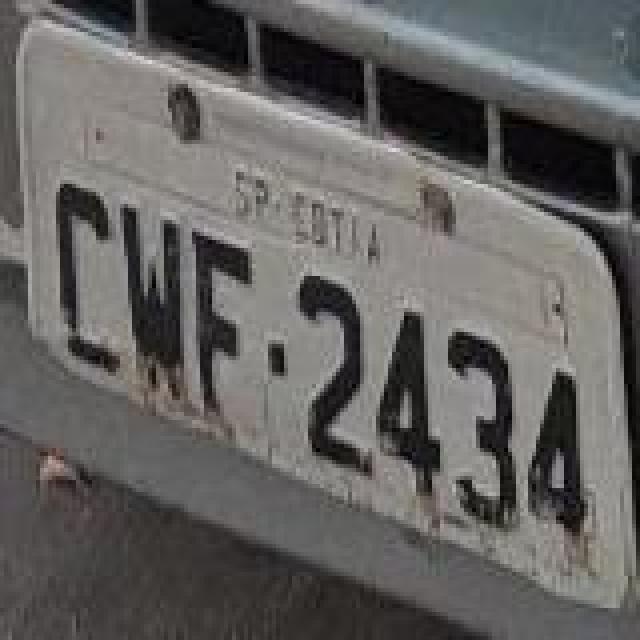2: (298, 272, 374, 480)
3: (444, 328, 516, 536)
4: (526, 368, 594, 568), (374, 310, 442, 506)
C: (54, 180, 122, 380)
F: (196, 228, 252, 412)
W: (120, 204, 184, 404)
